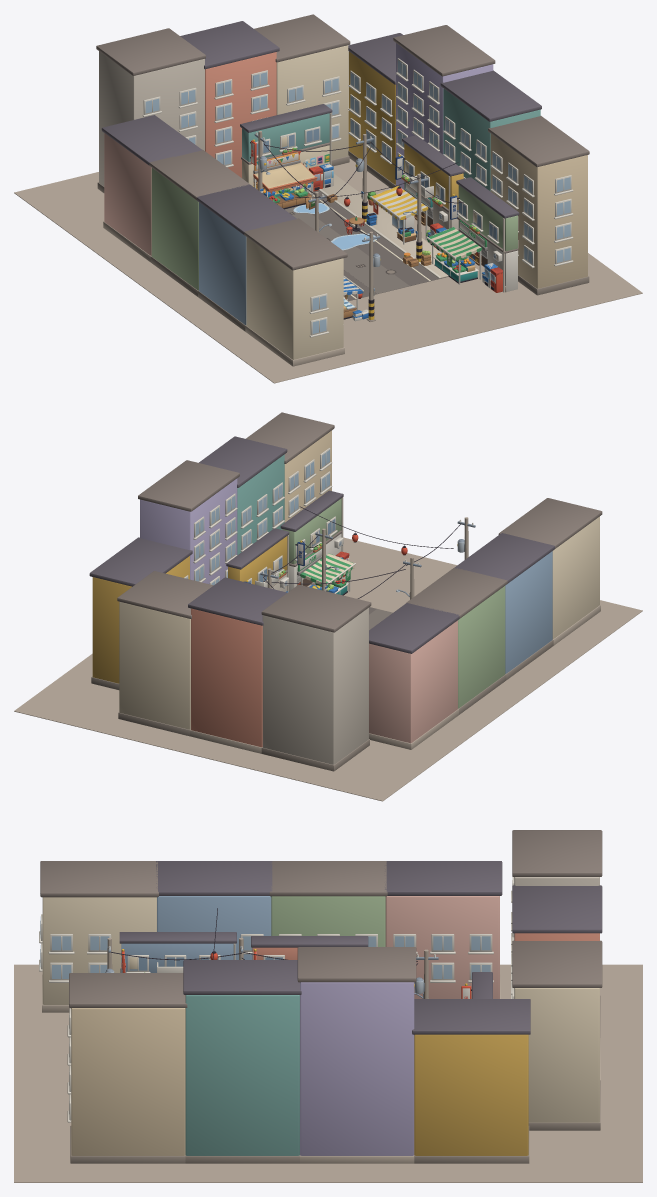
Rendered from street_a.glb.
3 renders of one model, top to bottom at view 1: azimuth 30°, elevation 25°; view 2: azimuth 150°, elevation 25°; view 3: azimuth 270°, elevation 25°, orthographic. The views are drawn at different scales.
Visible parts, largest first — view 1: ROAD_Ground, BLD_Backdrop_00, BLD_Backdrop_04, BLD_Backdrop_08, BLD_Backdrop_03, BLD_Backdrop_01, BLD_Backdrop_02, BLD_Backdrop_09, BLD_Backdrop_10, BLD_Backdrop_06, BLD_Backdrop_05, BLD_Backdrop_07 (+9 smaller); view 2: ROAD_Ground, BLD_Backdrop_08, BLD_Backdrop_09, BLD_Backdrop_03, BLD_Backdrop_10, BLD_Backdrop_00, BLD_Backdrop_02, BLD_Backdrop_01, BLD_Backdrop_06, BLD_Backdrop_07, BLD_Backdrop_05, BLD_Backdrop_04 (+3 smaller); view 3: ROAD_Ground, BLD_Backdrop_06, BLD_Backdrop_05, BLD_Backdrop_04, BLD_Backdrop_07, BLD_Backdrop_10, BLD_Backdrop_03, BLD_Backdrop_00, BLD_Backdrop_02, BLD_Backdrop_01, BLD_Backdrop_08, BLD_Backdrop_09 (+6 smaller).
Part boxes in pixels (bbox=[...]): ROAD_Ground: bbox=[14, 111, 642, 383]; BLD_Backdrop_00: bbox=[244, 218, 347, 366]; BLD_Backdrop_04: bbox=[488, 116, 589, 295]; BLD_Backdrop_08: bbox=[96, 28, 205, 192]; BLD_Backdrop_03: bbox=[101, 115, 201, 261]; BLD_Backdrop_01: bbox=[197, 184, 296, 331]; BLD_Backdrop_02: bbox=[149, 149, 250, 296]; BLD_Backdrop_09: bbox=[180, 21, 279, 177]; BLD_Backdrop_10: bbox=[254, 14, 350, 166]; BLD_Backdrop_06: bbox=[393, 25, 495, 189]; BLD_Backdrop_05: bbox=[440, 70, 541, 191]; BLD_Backdrop_07: bbox=[348, 33, 403, 188]; ROAD_Ground: bbox=[14, 537, 642, 801]; BLD_Backdrop_08: bbox=[261, 585, 371, 771]; BLD_Backdrop_09: bbox=[188, 577, 286, 753]; BLD_Backdrop_03: bbox=[369, 603, 459, 749]; BLD_Backdrop_10: bbox=[117, 571, 213, 736]; BLD_Backdrop_00: bbox=[498, 498, 602, 645]; BLD_Backdrop_02: bbox=[406, 567, 507, 714]; BLD_Backdrop_01: bbox=[454, 533, 554, 679]; BLD_Backdrop_06: bbox=[138, 460, 239, 584]; BLD_Backdrop_07: bbox=[89, 537, 192, 689]; BLD_Backdrop_05: bbox=[199, 436, 287, 554]; BLD_Backdrop_04: bbox=[246, 412, 334, 522]; ROAD_Ground: bbox=[14, 964, 642, 1182]; BLD_Backdrop_06: bbox=[297, 947, 416, 1163]; BLD_Backdrop_05: bbox=[183, 960, 301, 1163]; BLD_Backdrop_04: bbox=[69, 973, 187, 1163]; BLD_Backdrop_07: bbox=[412, 999, 530, 1163]; BLD_Backdrop_10: bbox=[512, 940, 602, 1130]; BLD_Backdrop_03: bbox=[385, 861, 502, 998]; BLD_Backdrop_00: bbox=[40, 861, 158, 1012]; BLD_Backdrop_02: bbox=[269, 861, 387, 946]; BLD_Backdrop_01: bbox=[156, 861, 272, 959]; BLD_Backdrop_08: bbox=[512, 830, 602, 1037]; BLD_Backdrop_09: bbox=[512, 885, 602, 1080].
Size of the model in its own units: 36 by 14.43 by 44.
Materials: 2 (2 with a texture image).
